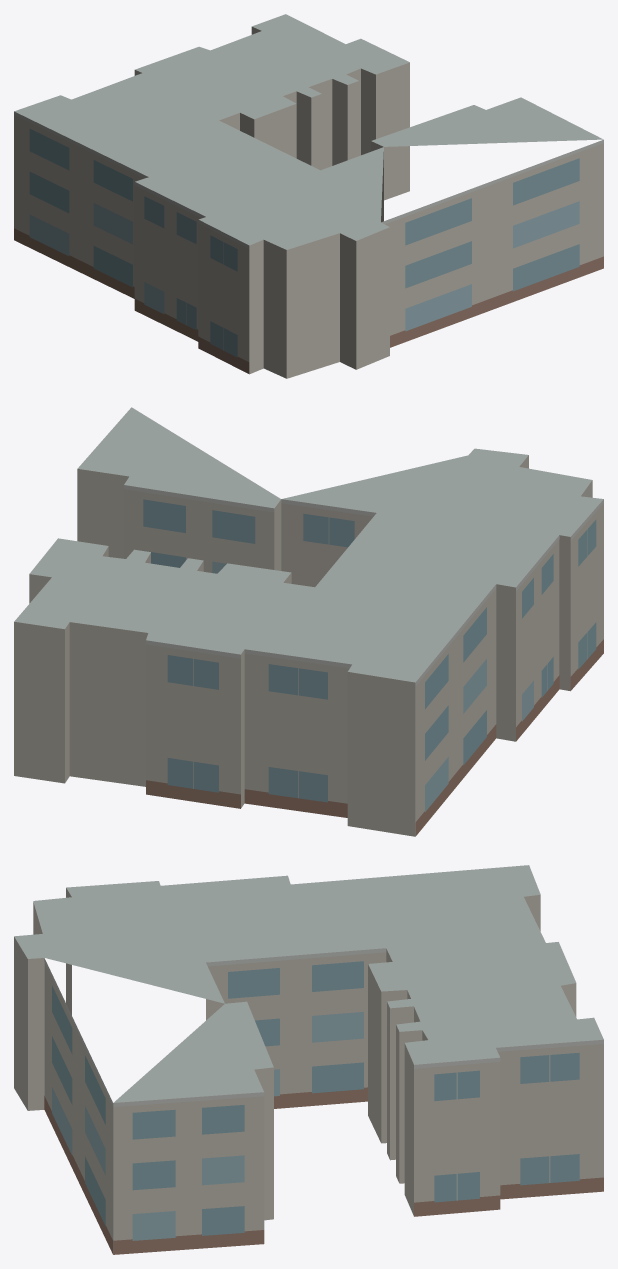
Rendered from survey-upis-32785247.glb.
3 renders of one model, top to bottom at view 1: azimuth 30°, elevation 25°; view 2: azimuth 150°, elevation 25°; view 3: azimuth 270°, elevation 25°, orthographic. The views are drawn at different scales.
Visible parts, largest first — view 1: survey-upis-32785247.tmp; view 2: survey-upis-32785247.tmp; view 3: survey-upis-32785247.tmp.
Part boxes in pixels (bbox=[...]): survey-upis-32785247.tmp: bbox=[14, 14, 603, 378]; survey-upis-32785247.tmp: bbox=[14, 407, 603, 836]; survey-upis-32785247.tmp: bbox=[14, 865, 603, 1254].
Bounding box in the file's own units: 30.75 × 9.15 × 32.21.
